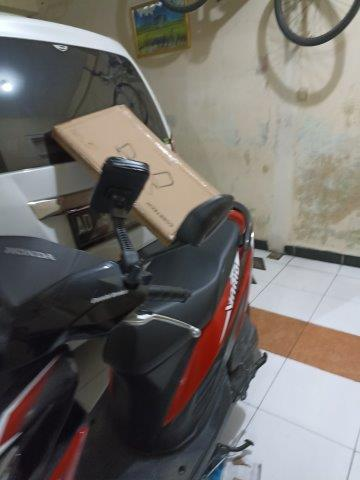kardus: (55, 105, 222, 243)
